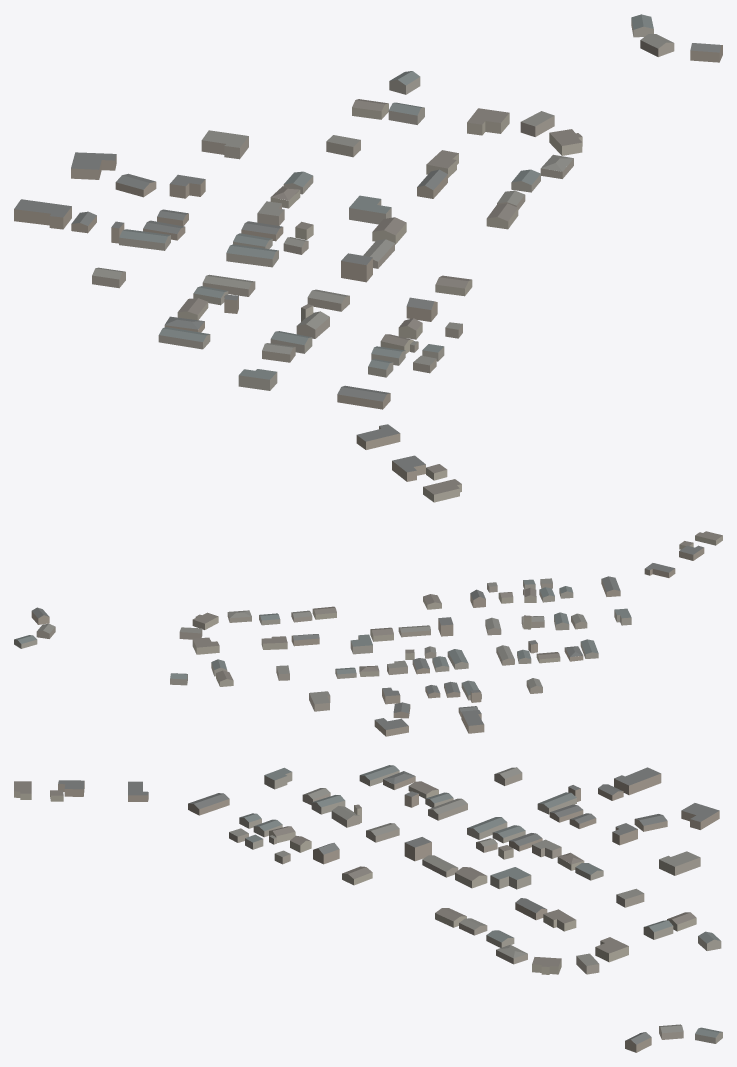
Rendered from 84ba3daa1e9e-chunk-1202_11845.glb.
3 views of the same model, one above another, from view 1: azimuth 30°, elevation 25°; view 2: azimuth 150°, elevation 25°; view 3: azimuth 270°, elevation 25° (orthographic). The views are drawn at different scales.
Visible parts, largest first — view 1: building_10976, building_98128, building_122430, building_84470, building_11505, building_140238, building_171486, building_19923, building_107335, building_111896, building_81412; view 2: building_98128, building_10976, building_84470, building_122430, building_171486; view 3: building_10976, building_98128, building_122430, building_171486, building_84470, building_11505, building_140238, building_81412, building_111896, building_19923, building_86953, building_53400 (+4 smaller).
Part boxes in pixels (x1,y1,x2,y2): building_10976: [14, 199, 71, 229]; building_98128: [71, 152, 116, 179]; building_122430: [201, 130, 248, 159]; building_84470: [467, 108, 509, 135]; building_11505: [337, 385, 390, 409]; building_140238: [226, 244, 278, 267]; building_171486: [349, 195, 391, 224]; building_19923: [119, 229, 170, 250]; building_107335: [158, 327, 210, 349]; building_111896: [341, 253, 372, 282]; building_81412: [202, 274, 255, 296]; building_98128: [374, 718, 408, 736]; building_10976: [461, 710, 484, 733]; building_84470: [192, 637, 219, 654]; building_122430: [309, 691, 330, 711]; building_171486: [350, 634, 372, 654]; building_10976: [614, 767, 661, 795]; building_98128: [681, 803, 719, 829]; building_122430: [659, 851, 700, 875]; building_171486: [490, 867, 531, 889]; building_84470: [595, 937, 628, 962]; building_11505: [188, 793, 229, 815]; building_140238: [467, 817, 507, 839]; building_81412: [428, 798, 467, 820]; building_111896: [404, 837, 431, 861]; building_19923: [537, 792, 576, 814]; building_86953: [543, 909, 576, 931]; building_53400: [455, 867, 487, 888].
Bounding box in the file's own units: 374 × 9.23 × 398.
